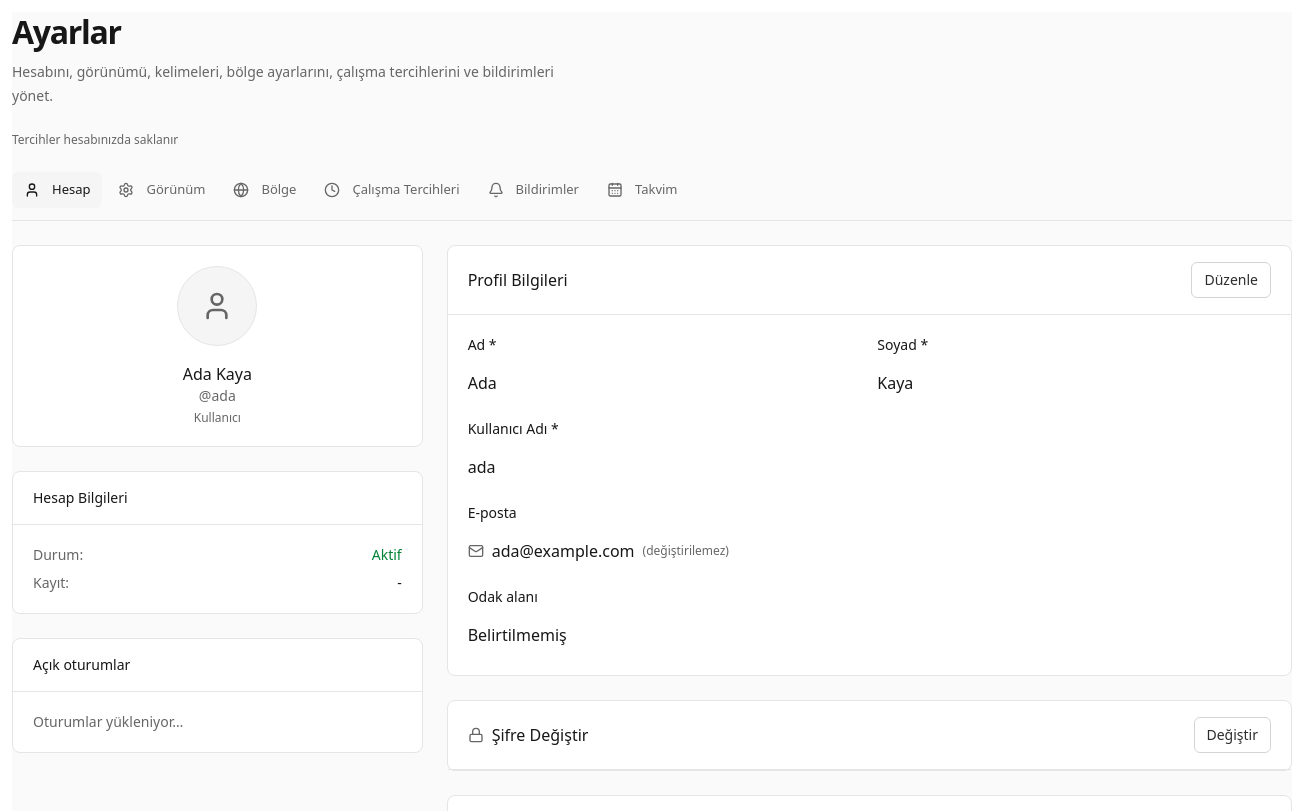
Test: opens settings on the account tab, which holds the only name and password forms
This screenshot has width=1292, height=811.
Expected: the number of buttons "Değiştir" is 1, x1=1194 y1=716 x2=1271 y2=752
Click the button "Görünüm": [162, 190] box x1=106 y1=172 x2=218 y2=208
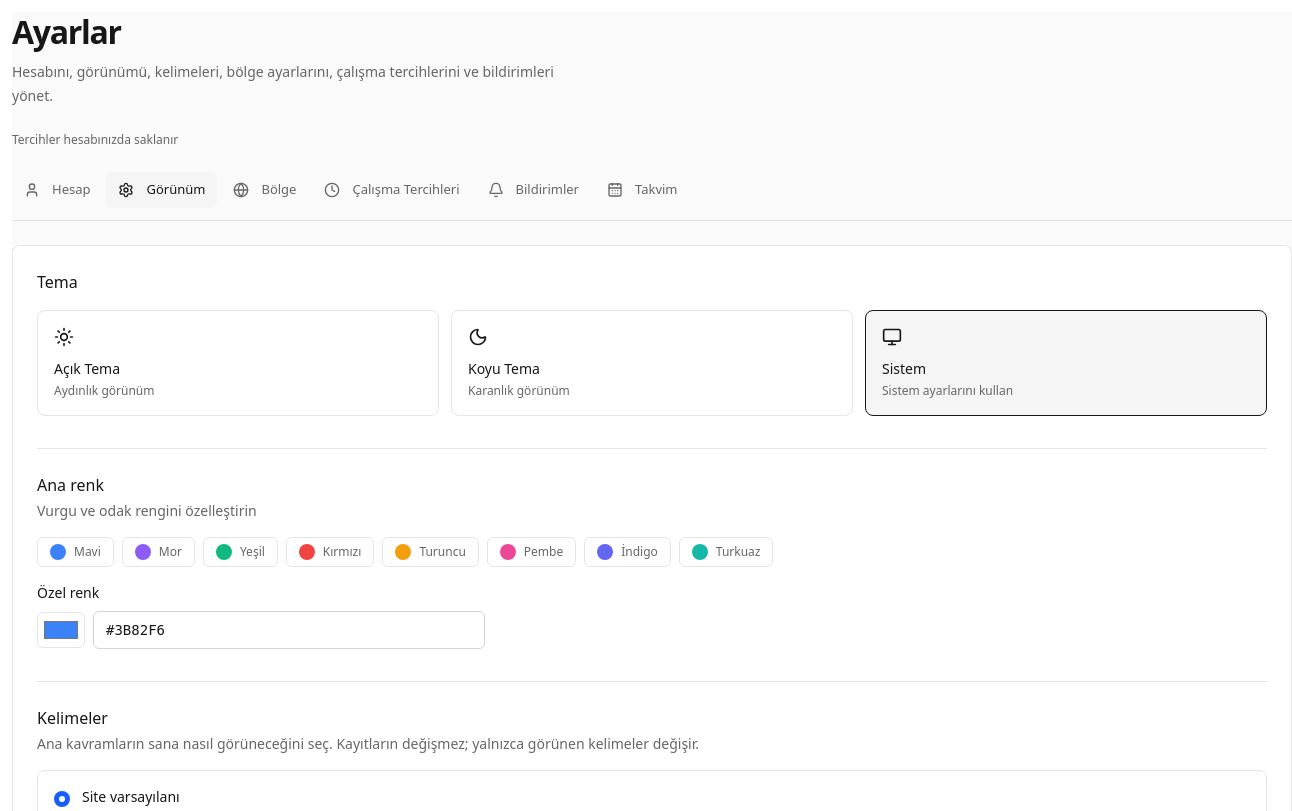
Expected: the text "değiştir" is gone
